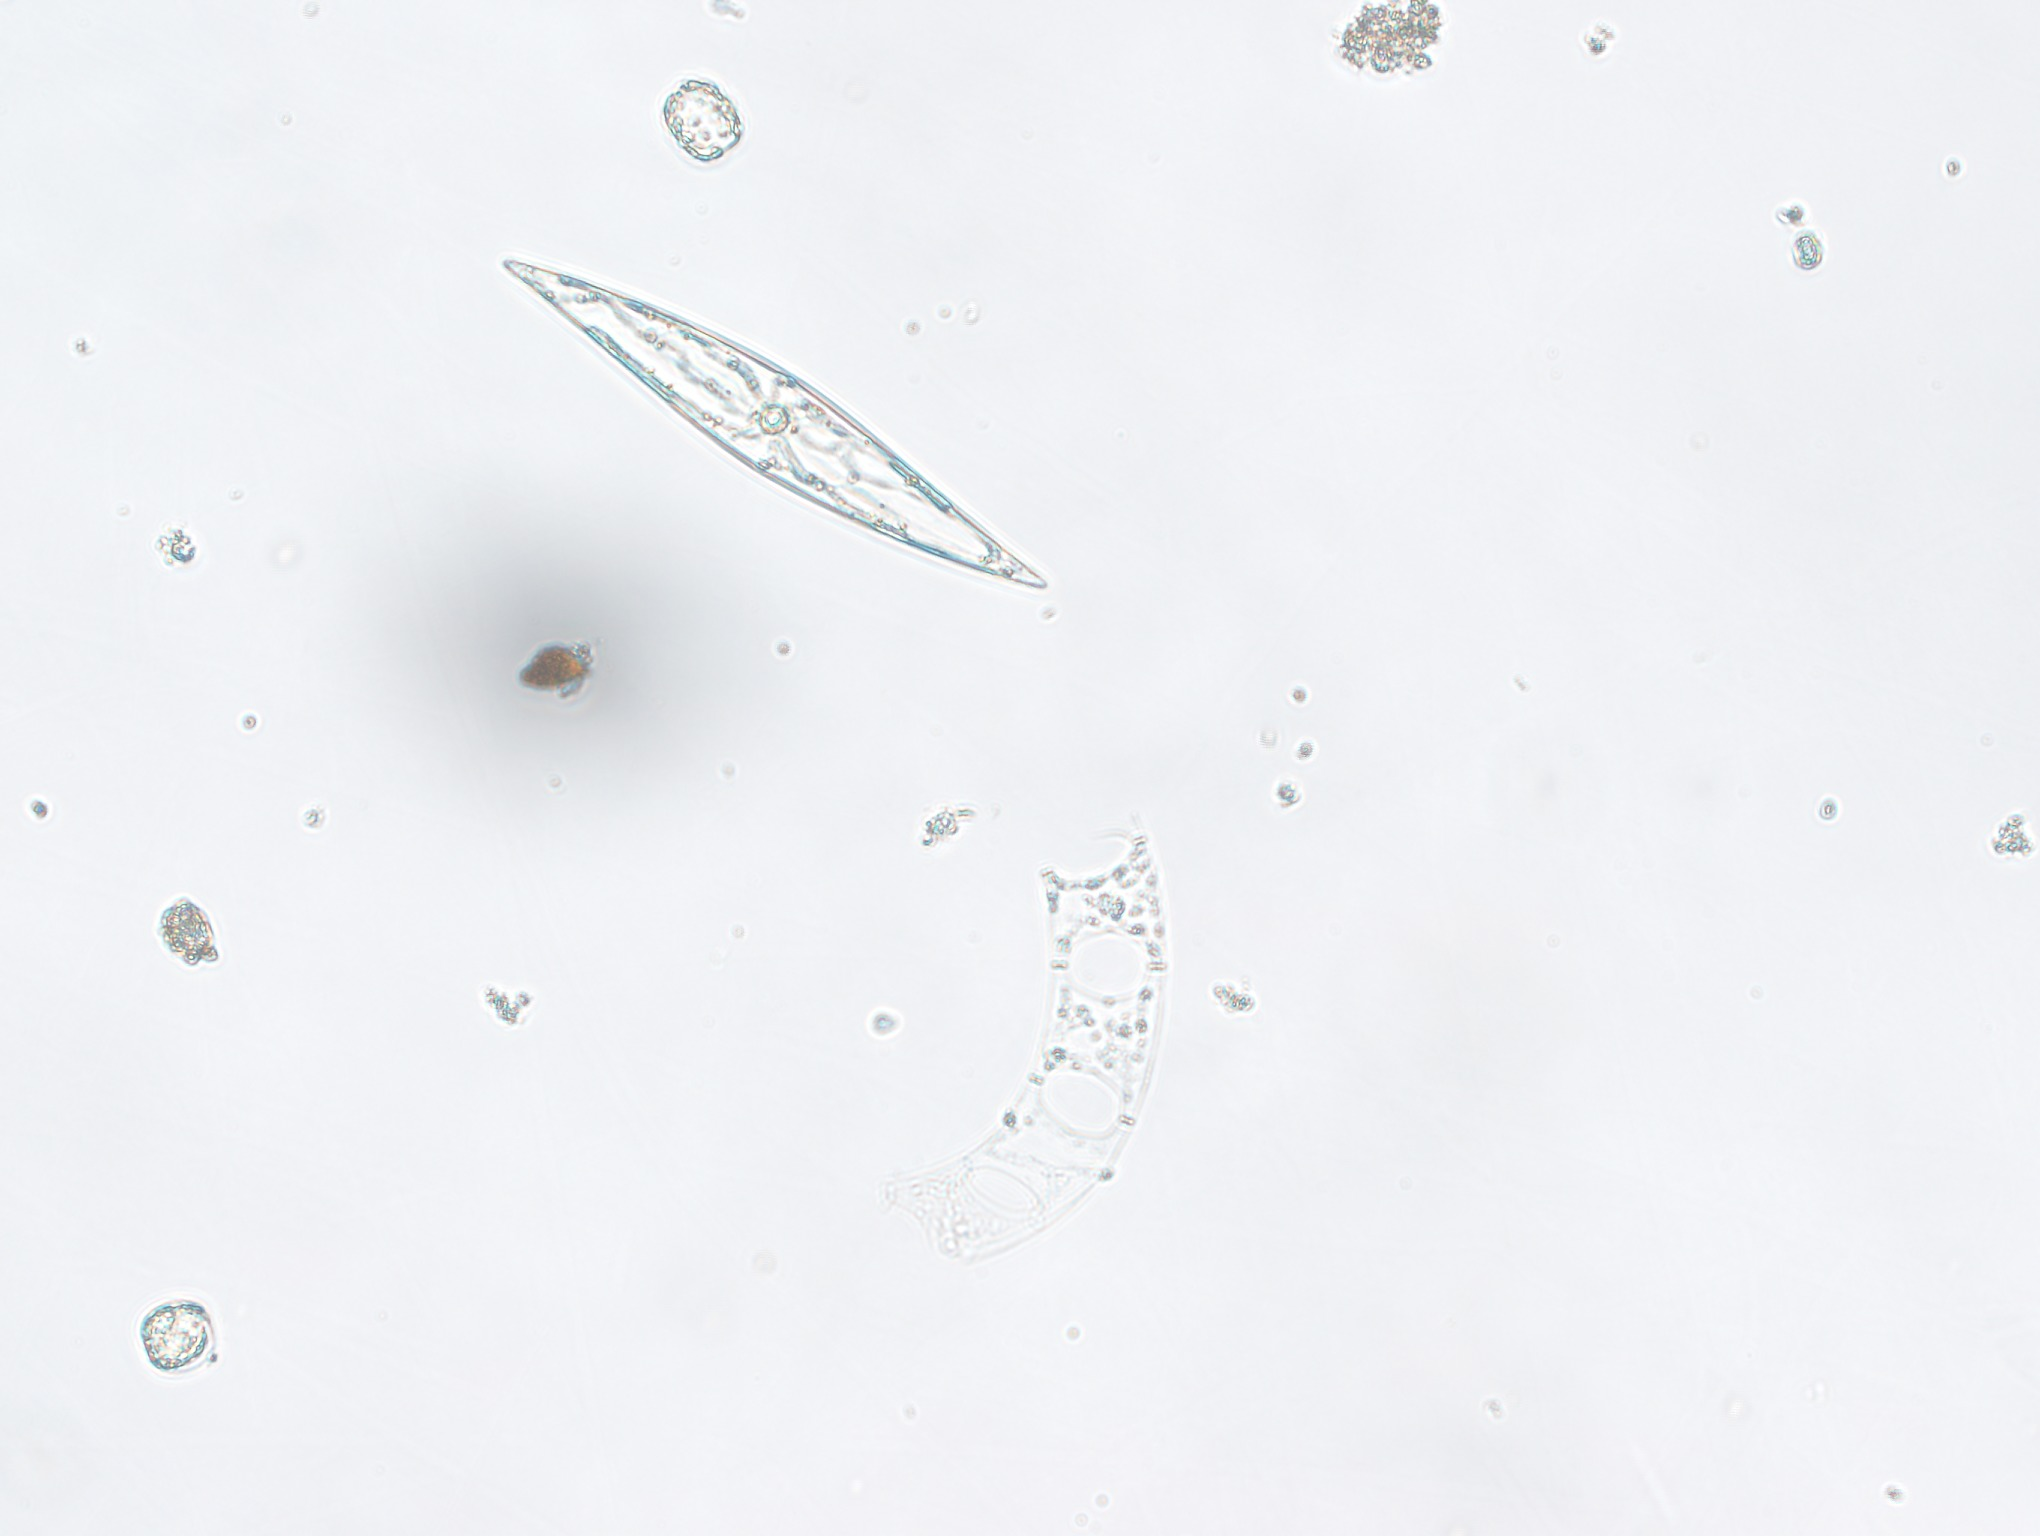eucampia: (951, 828, 1187, 1260)
pleurosigma pelagicum: (482, 244, 1056, 615)
